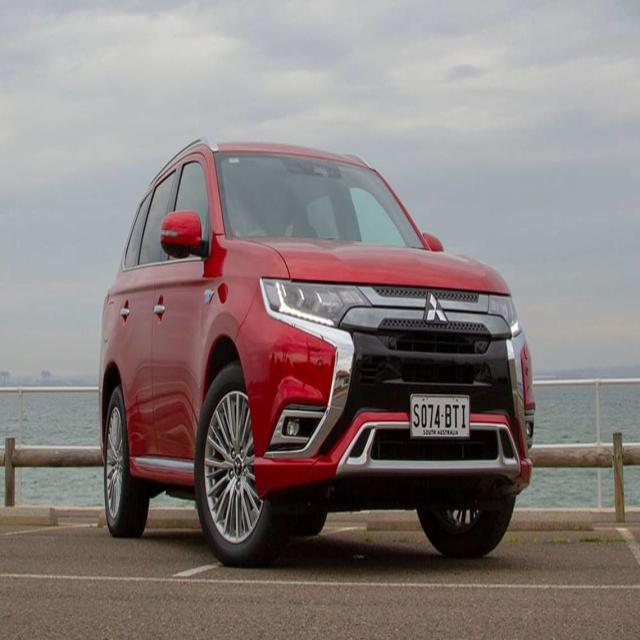light_vehicle: (98, 139, 536, 567)
